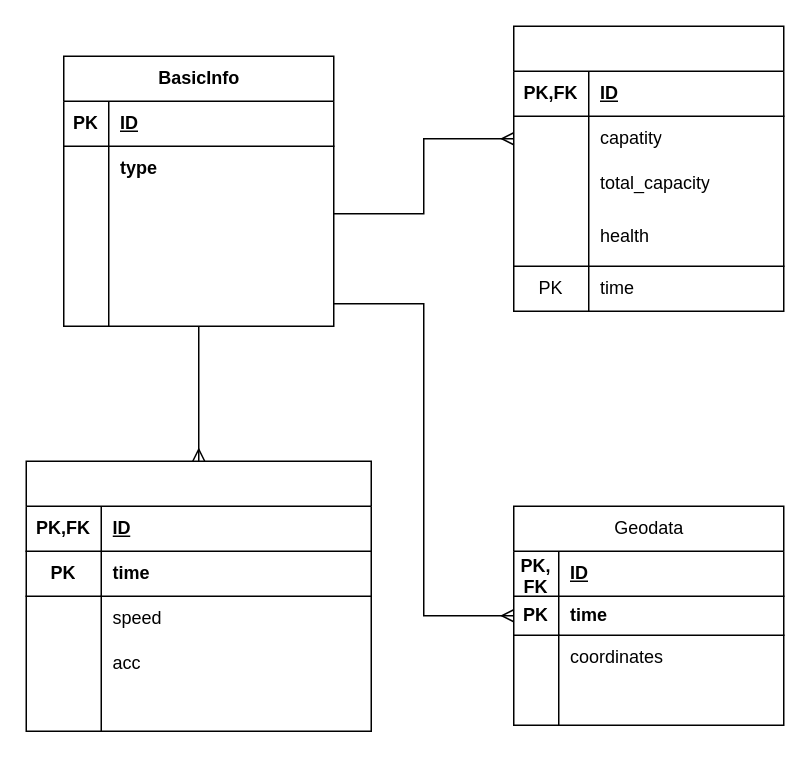
The diagram is 810 pixels wide and 758 high, and some of its shapes have lost their labels. The shapes that lost their labels are listed below. From the top down, each one's box as (x1, y1, x2, y2) in pixels, then its label:
(512, 25, 784, 311): BatteryInfo
(25, 460, 371, 731): MovementInfo
